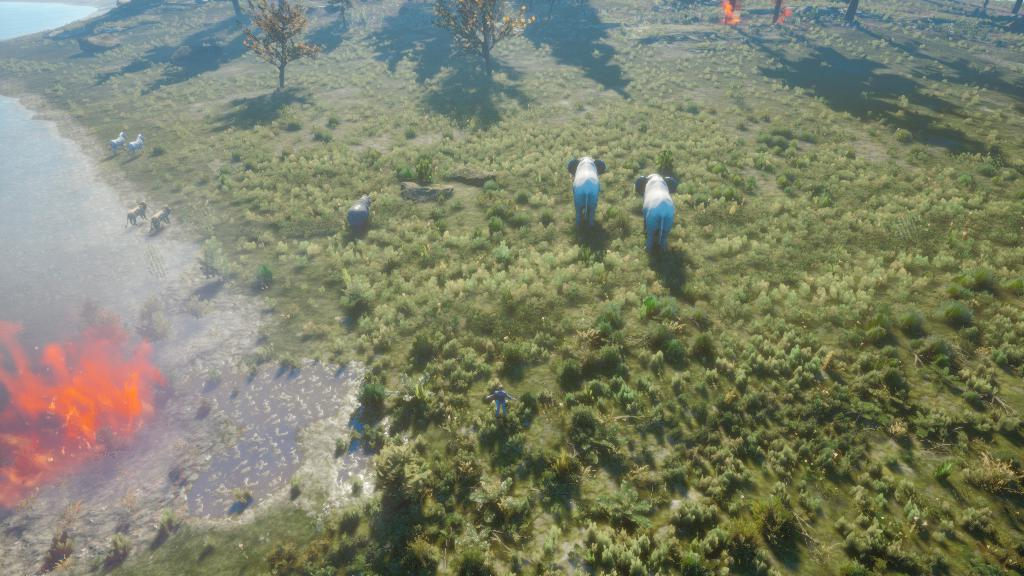Fire: (0, 315, 172, 516), (754, 0, 805, 35), (707, 0, 750, 33)
elephant: (628, 168, 688, 248), (567, 149, 610, 229)
hippopotamus: (340, 189, 387, 235)
human: (479, 374, 527, 434)
lion: (143, 204, 179, 233), (123, 200, 154, 230)
smoke: (0, 287, 210, 504)
zebra: (124, 130, 148, 155), (107, 133, 131, 156)
